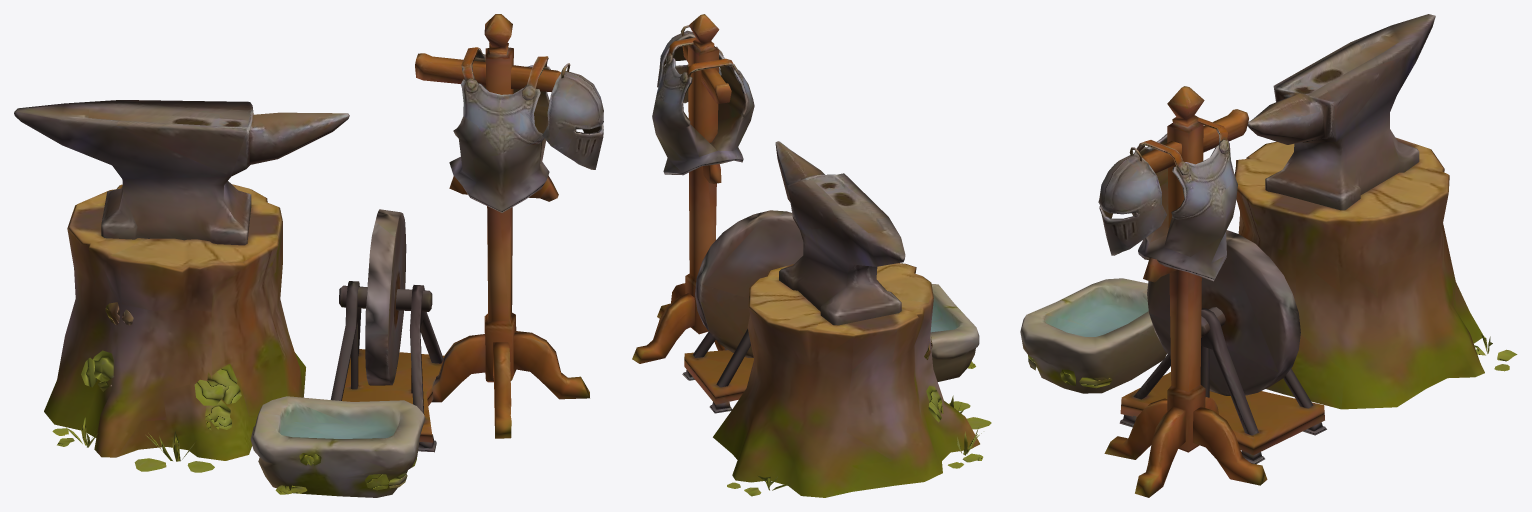
The model's file is station_anvil_armorer.glb.
3 views of the same model, side by side, from view 1: azimuth 30°, elevation 25°; view 2: azimuth 150°, elevation 25°; view 3: azimuth 270°, elevation 25° (orthographic). The views are drawn at different scales.
Parts seen in each view (by area): view 1: tripo_node_5a79ab71-5bba-45fd-acce-336af2cd4afd; view 2: tripo_node_5a79ab71-5bba-45fd-acce-336af2cd4afd; view 3: tripo_node_5a79ab71-5bba-45fd-acce-336af2cd4afd.
Boxes of the visible parts, left/top/right/bottom form: tripo_node_5a79ab71-5bba-45fd-acce-336af2cd4afd: left=14, top=14, right=603, bottom=497; tripo_node_5a79ab71-5bba-45fd-acce-336af2cd4afd: left=632, top=14, right=991, bottom=497; tripo_node_5a79ab71-5bba-45fd-acce-336af2cd4afd: left=1020, top=14, right=1517, bottom=497.
Size of the model in its own units: 2.7 by 2.2 by 2.59.
Materials: 1 (1 with a texture image).
